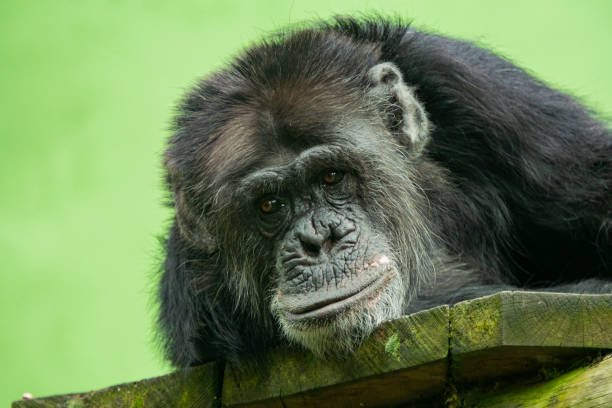chimpanzee: (120, 24, 512, 385)
